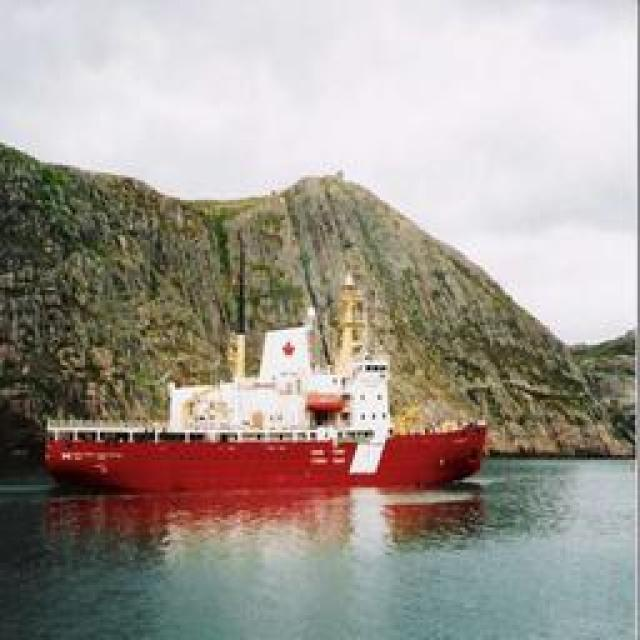ship2: (43, 328, 491, 495)
